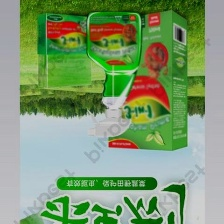book: (104, 7, 192, 151), (35, 8, 94, 91)
insecticide: (83, 9, 145, 139)
